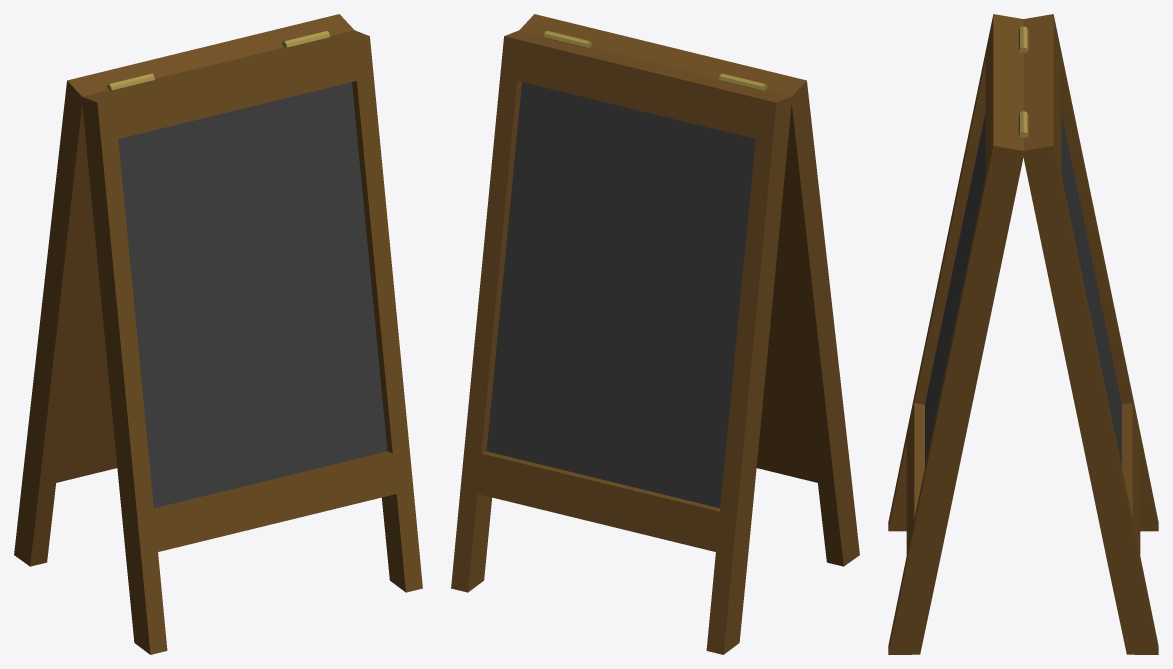
Rendered from sandwichBoard.fbx.
3 views of the same model, side by side, from view 1: azimuth 30°, elevation 25°; view 2: azimuth 150°, elevation 25°; view 3: azimuth 270°, elevation 25° (orthographic).
Visible parts, largest first — view 1: Sandwich Board; view 2: Sandwich Board; view 3: Sandwich Board.
Part boxes in pixels (x1,y1,x2,y2): Sandwich Board: (14, 14, 422, 654); Sandwich Board: (451, 14, 859, 654); Sandwich Board: (888, 14, 1158, 654).
Bounding box in the file's own units: 58.12 × 50.42 × 105.
